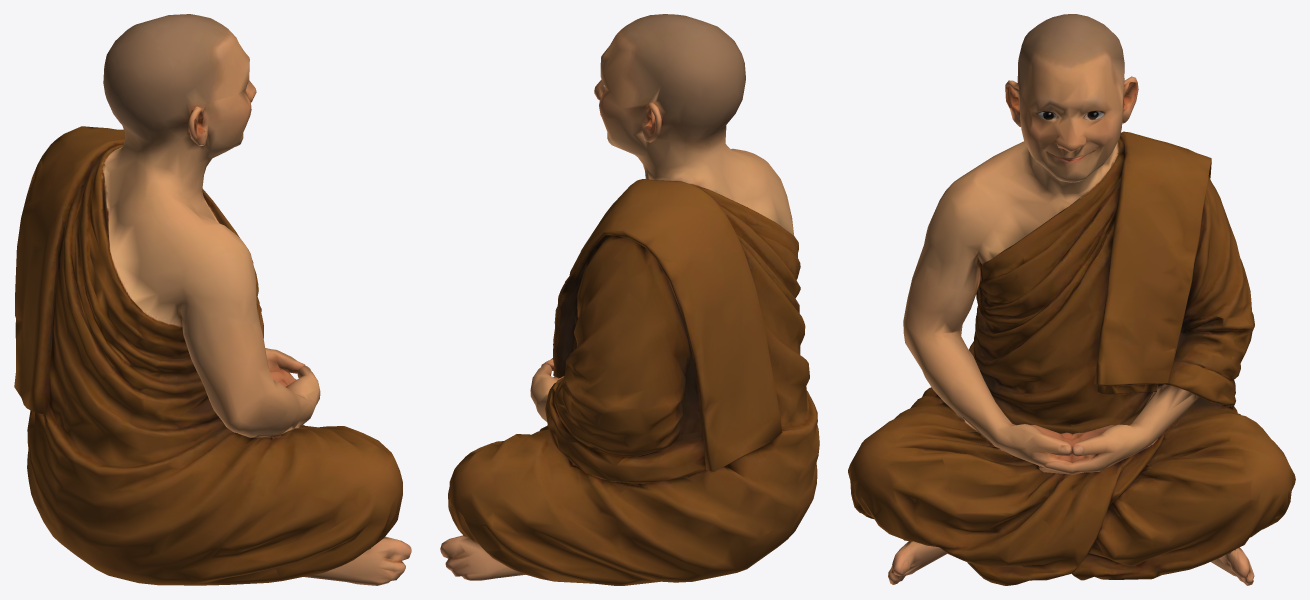
The model's file is monk.glb.
The picture shows the model from 3 angles, left to right: view 1: azimuth 30°, elevation 25°; view 2: azimuth 150°, elevation 25°; view 3: azimuth 270°, elevation 25°; orthographic projection. The views are drawn at different scales.
Parts seen in each view (by area): view 1: tripo_node_68edc1d4-5519-4601-83bb-02a93ccef753; view 2: tripo_node_68edc1d4-5519-4601-83bb-02a93ccef753; view 3: tripo_node_68edc1d4-5519-4601-83bb-02a93ccef753.
Part boxes in pixels (x1,y1,x2,y2): tripo_node_68edc1d4-5519-4601-83bb-02a93ccef753: (14,14,411,585); tripo_node_68edc1d4-5519-4601-83bb-02a93ccef753: (440,14,819,585); tripo_node_68edc1d4-5519-4601-83bb-02a93ccef753: (848,14,1295,585).
Size of the model in its own units: 0.5371 by 0.998 by 0.803.
1 material, 1 textured.
